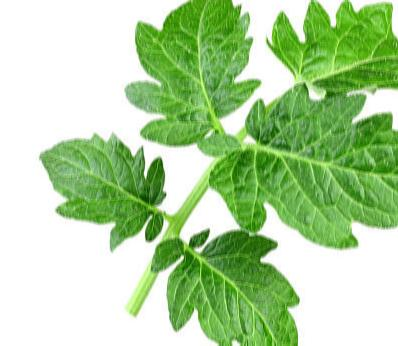Tomato leaf: (207, 85, 398, 271), (130, 0, 267, 170), (150, 206, 314, 346), (246, 0, 398, 135), (28, 131, 169, 261)
